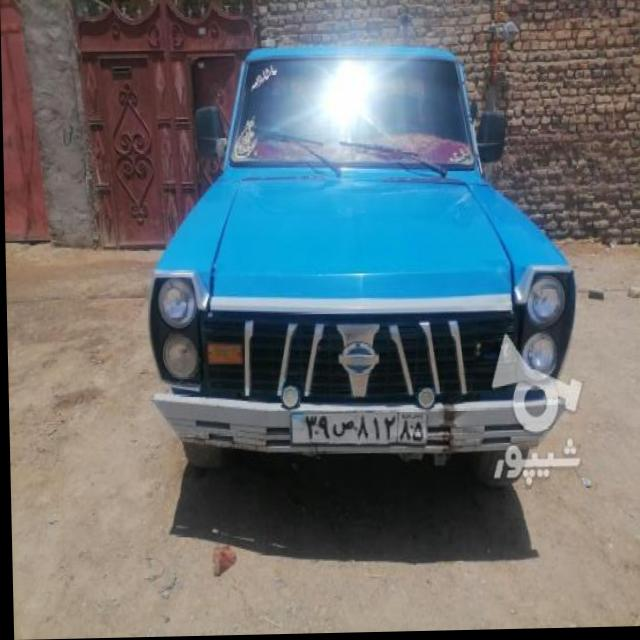licence: (286, 408, 425, 448)
